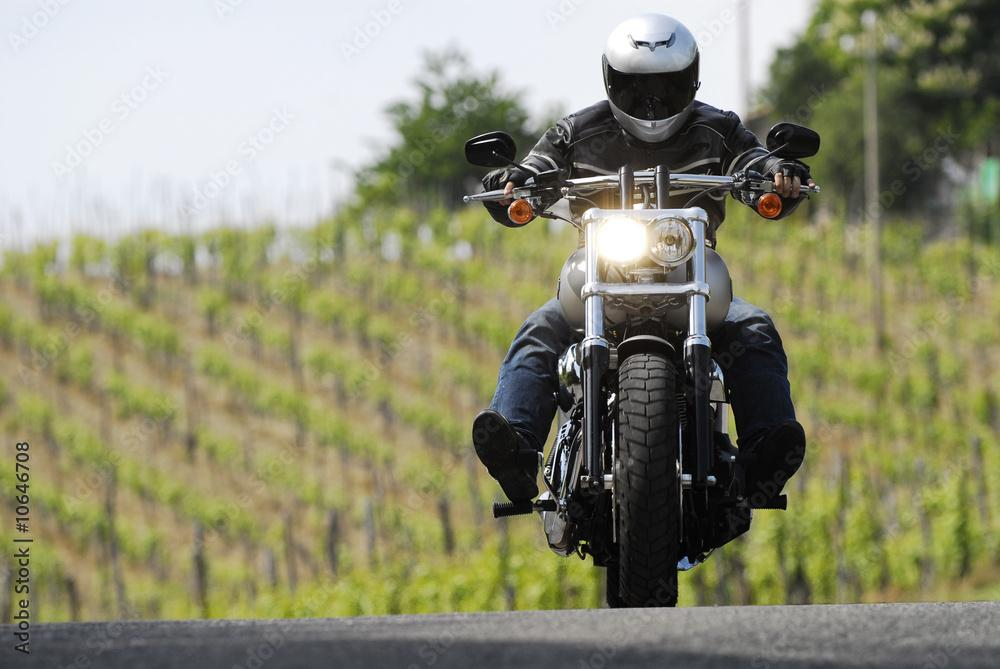helmet: (600, 12, 702, 145)
